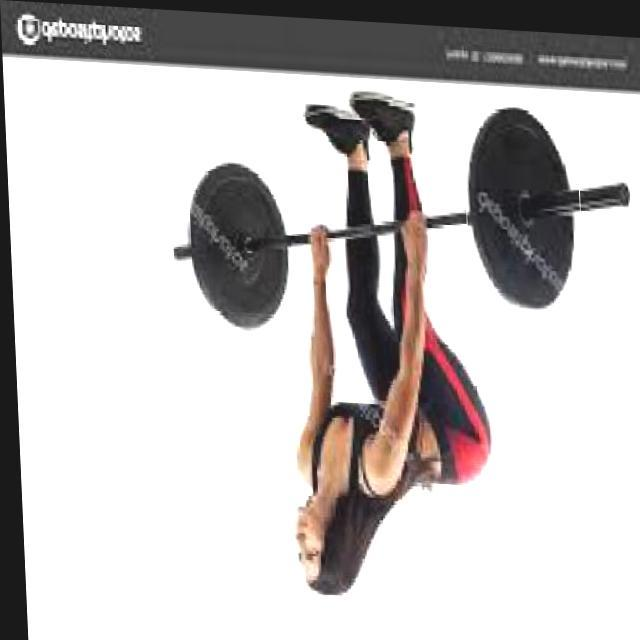barbell: (462, 94, 585, 322)
